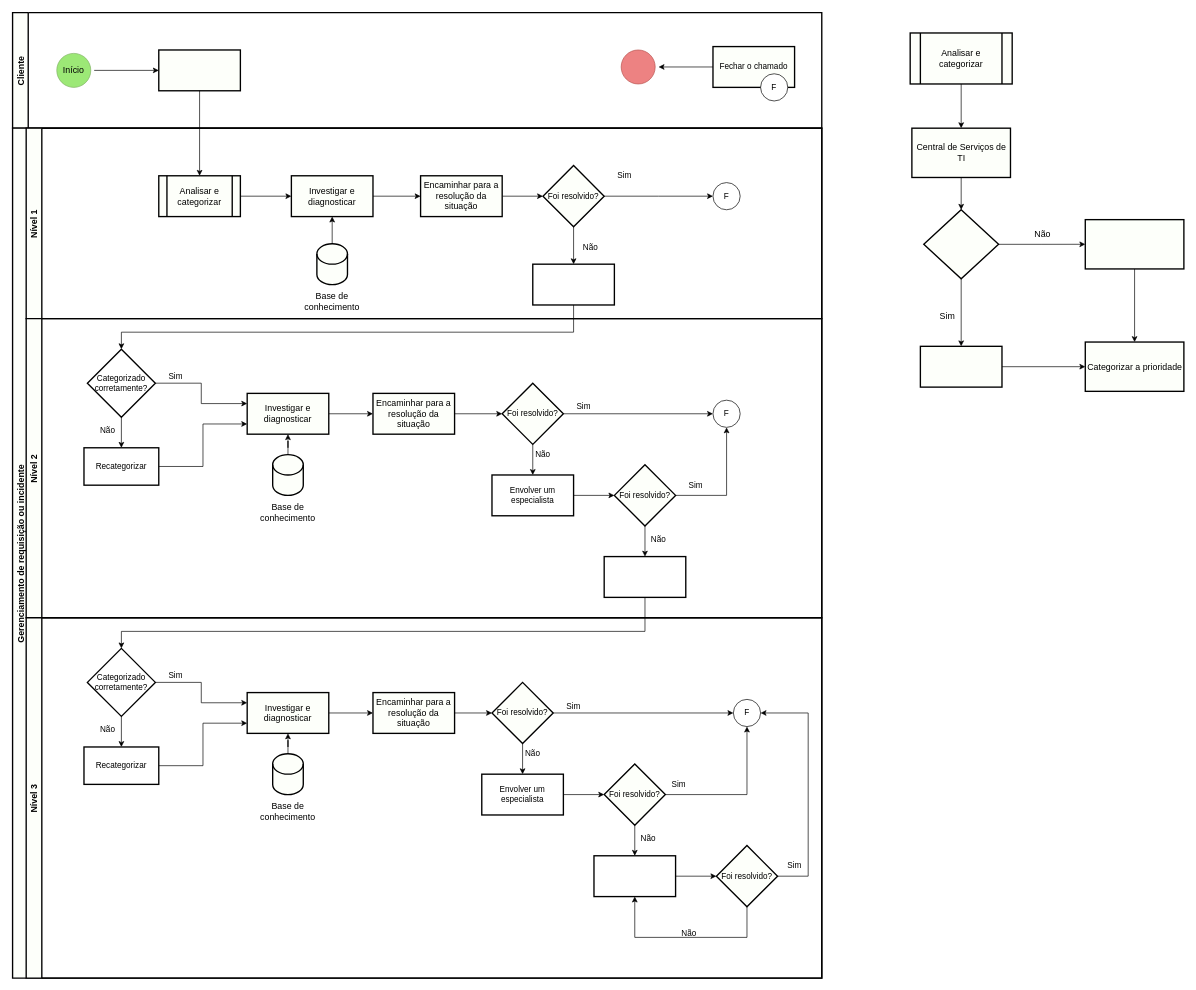
Image size: 1196x990. Some labels were removed from this diagram. Here are the shapes that lost their labels. From the top down, the centre of each, then its label:
At pixel 199 70: "Abrir um chamado".
At pixel 637 66: "Fim".
At pixel 961 244: "É recorrente?".
At pixel 1134 244: "Processo de requisição ou incidente".
At pixel 573 284: "Encaminhar para o Nível 2".
At pixel 960 366: "Encaminhar para processo de problema".
At pixel 644 577: "Encaminhar para o Nível 3".
At pixel 634 876: "Encaminhar para uma solução personalizada".
